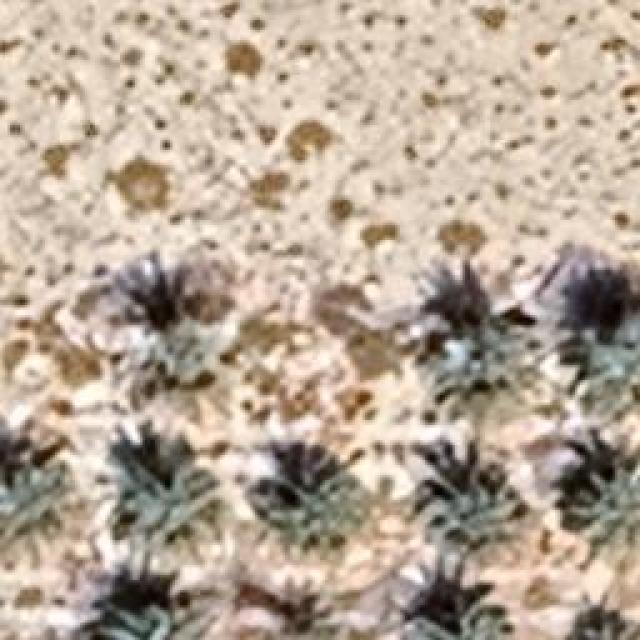PalmTree: (108, 320, 235, 422), (252, 448, 360, 550), (420, 458, 515, 564), (428, 315, 540, 403), (562, 274, 640, 392), (0, 462, 80, 568), (557, 444, 640, 544), (230, 574, 345, 638), (137, 470, 220, 538), (415, 600, 510, 638), (102, 604, 208, 638), (568, 598, 638, 638)
